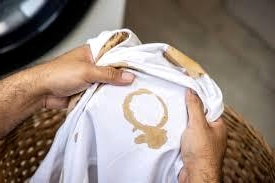coffee: (131, 123, 168, 149), (122, 93, 133, 124), (157, 94, 168, 124)
